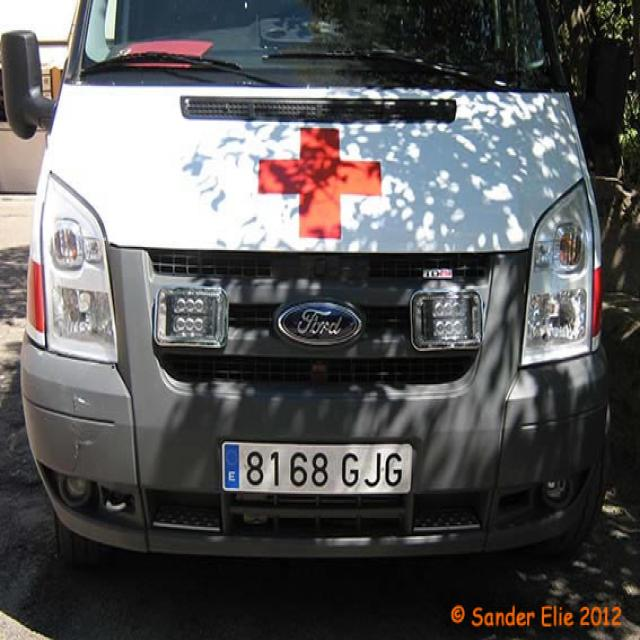License-Plate: (221, 439, 414, 495)
